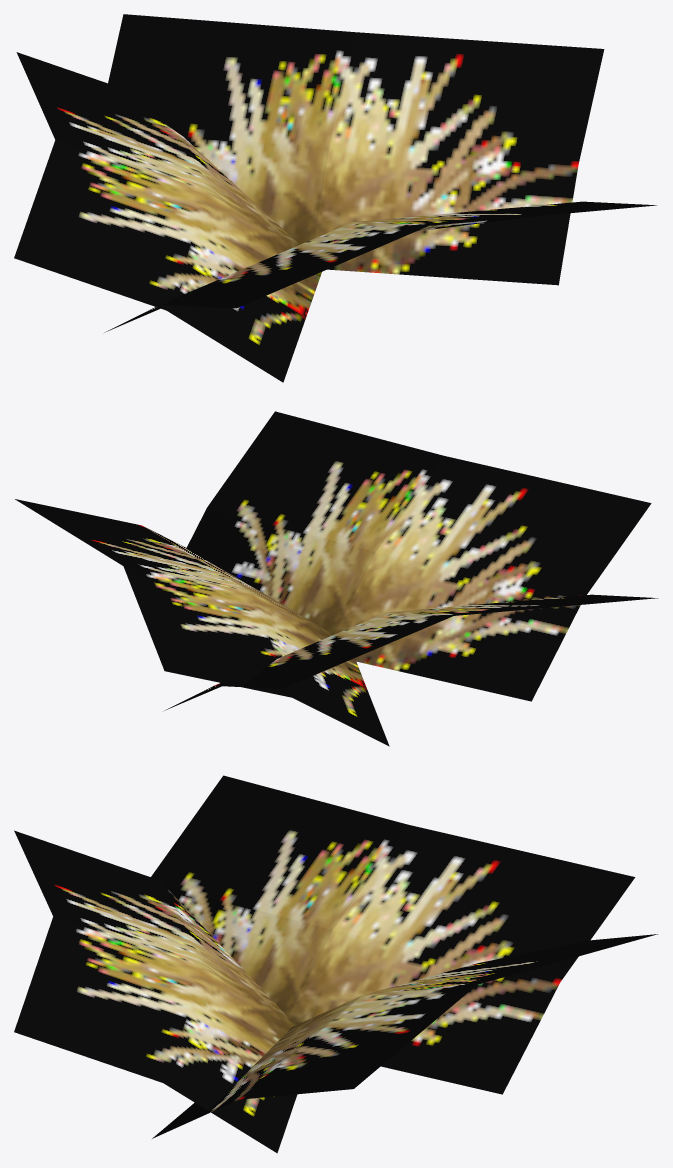
File: mauritania_grass_01.fbx
The picture shows the model from 3 angles, top to bottom: view 1: azimuth 30°, elevation 25°; view 2: azimuth 150°, elevation 25°; view 3: azimuth 270°, elevation 25°; orthographic projection. The views are drawn at different scales.
Visible parts, largest first — view 1: grass_01; view 2: grass_01; view 3: grass_01.
Boxes of the visible parts, <box> form: grass_01: <box>14,14,656,382</box>; grass_01: <box>15,411,658,746</box>; grass_01: <box>14,775,657,1153</box>.
Size of the model in its own units: 68.38 by 13.93 by 59.44.
